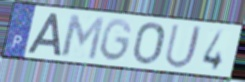4: (200, 27, 227, 73)
A: (25, 12, 62, 57)
G: (99, 17, 134, 64)
M: (60, 12, 107, 62)
O: (131, 21, 167, 66)
U: (163, 22, 205, 71)
